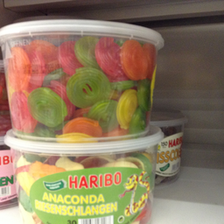candy: (1, 20, 166, 143), (4, 130, 166, 224)
